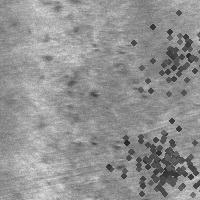rolled-in_scale: (99, 104, 200, 200), (124, 0, 200, 111), (62, 57, 128, 170), (123, 125, 200, 200)
